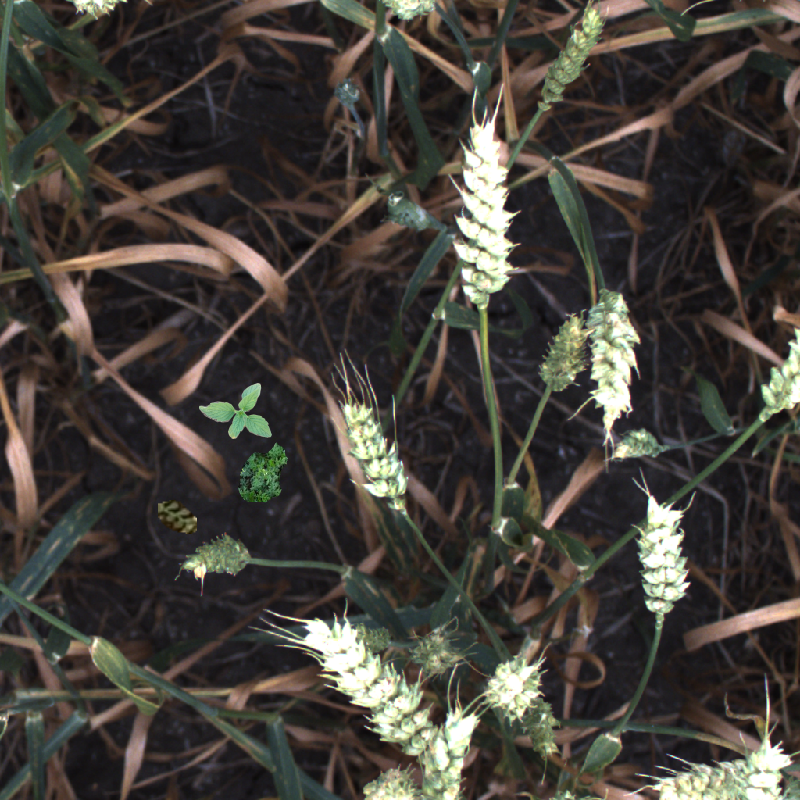spikelet: (300, 613, 442, 762), (576, 275, 651, 447), (452, 110, 513, 307), (524, 7, 611, 121), (331, 400, 410, 512), (646, 738, 796, 793), (415, 707, 484, 799), (751, 304, 800, 433), (165, 525, 259, 592), (637, 496, 689, 610), (409, 614, 477, 678), (539, 310, 592, 392), (733, 729, 791, 800), (604, 420, 672, 475), (515, 686, 564, 762), (490, 656, 542, 723), (313, 621, 394, 660), (44, 1, 148, 27), (357, 760, 417, 800), (364, 1, 449, 29), (383, 195, 435, 234), (335, 77, 361, 104)
weed: (232, 434, 297, 512), (199, 383, 272, 439), (158, 500, 197, 534)
